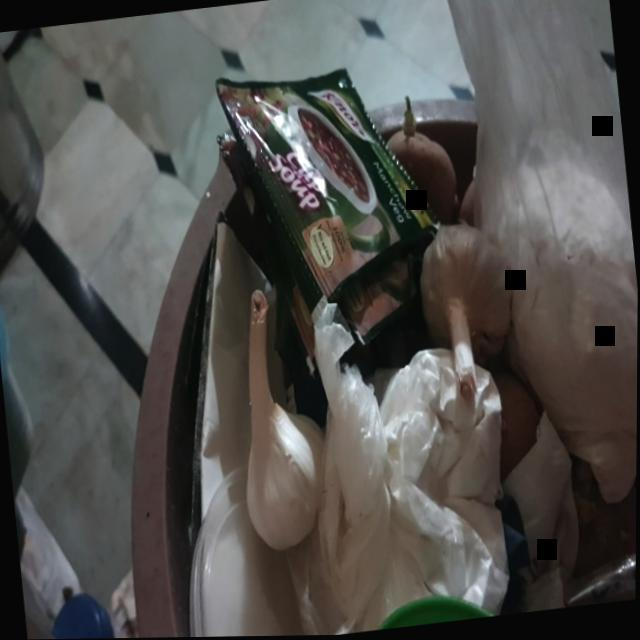garlic: (213, 282, 345, 569), (405, 221, 539, 434)
